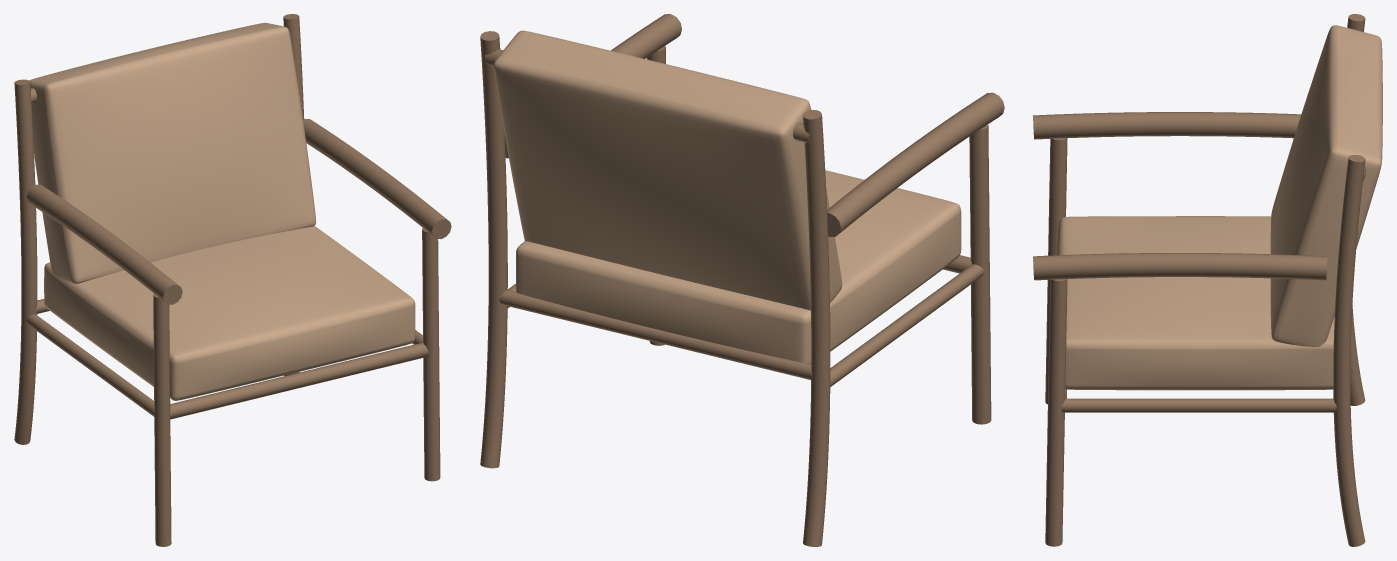
The model's file is armchair.glb.
The picture shows the model from 3 angles, left to right: view 1: azimuth 30°, elevation 25°; view 2: azimuth 150°, elevation 25°; view 3: azimuth 270°, elevation 25°; orthographic projection. The views are drawn at different scales.
Visible parts, largest first — view 1: BackCushion, SeatCushion, BackLeg_L, FrontRail, Armrest_L, FrontLeg_L, FrontLeg_R, Armrest_R, SeatRail_L, BackLeg_R; view 2: BackCushion, SeatCushion, BackLeg_L, BackLeg_R, Armrest_L, FrontLeg_L, BackRail, SeatRail_L, Armrest_R; view 3: SeatCushion, BackCushion, Armrest_R, BackLeg_R, Armrest_L, FrontLeg_R, SeatRail_R, FrontLeg_L, BackLeg_L.
Boxes of the visible parts, bbox=[...] form: BackCushion: bbox=[29, 22, 316, 283]; SeatCushion: bbox=[44, 226, 415, 400]; BackLeg_L: bbox=[14, 79, 37, 444]; FrontRail: bbox=[170, 342, 428, 419]; Armrest_L: bbox=[26, 184, 182, 304]; FrontLeg_L: bbox=[153, 294, 171, 546]; FrontLeg_R: bbox=[422, 228, 440, 481]; Armrest_R: bbox=[303, 119, 451, 239]; SeatRail_L: bbox=[26, 314, 154, 416]; BackLeg_R: bbox=[283, 14, 304, 376]; BackCushion: bbox=[493, 30, 842, 310]; SeatCushion: bbox=[516, 170, 961, 363]; BackLeg_L: bbox=[803, 110, 830, 546]; BackLeg_R: bbox=[480, 31, 507, 468]; Armrest_L: bbox=[827, 92, 1004, 236]; FrontLeg_L: bbox=[969, 124, 991, 424]; BackRail: bbox=[499, 290, 812, 379]; SeatRail_L: bbox=[830, 264, 984, 386]; Armrest_R: bbox=[504, 14, 681, 158]; SeatCushion: bbox=[1056, 216, 1334, 390]; BackCushion: bbox=[1270, 25, 1382, 346]; Armrest_R: bbox=[1033, 253, 1327, 280]; BackLeg_R: bbox=[1333, 155, 1365, 546]; Armrest_L: bbox=[1033, 112, 1301, 139]; FrontLeg_R: bbox=[1045, 279, 1067, 546]; SeatRail_R: bbox=[1061, 398, 1336, 412]; FrontLeg_L: bbox=[1045, 138, 1067, 404]; BackLeg_L: bbox=[1347, 14, 1365, 405].
Size of the model in its own units: 0.708 by 0.8494 by 0.6926.
